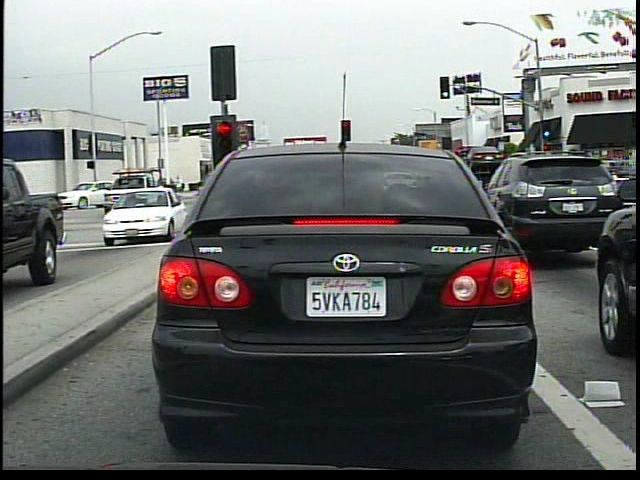person: (169, 169, 191, 195)
